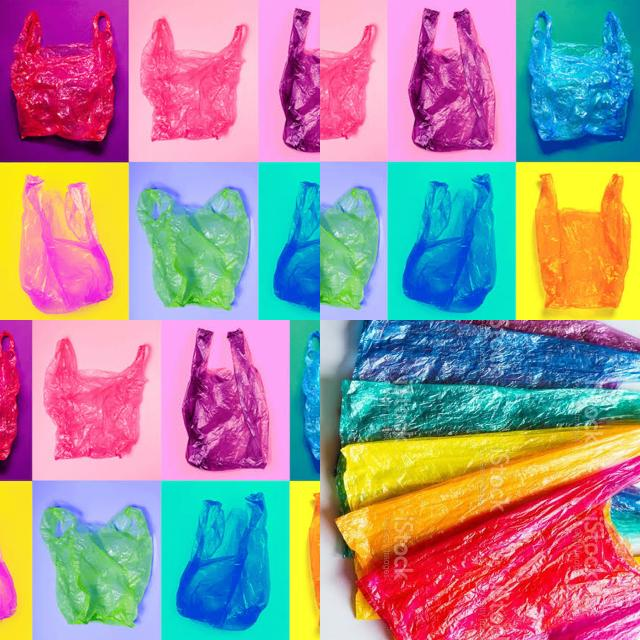Single-layer Plastic: (358, 456, 640, 640), (336, 426, 640, 578), (336, 426, 615, 511), (340, 380, 640, 446), (352, 321, 640, 389), (136, 188, 250, 309), (11, 11, 116, 141), (529, 11, 634, 141), (40, 506, 152, 627), (19, 175, 114, 314), (402, 174, 496, 312), (176, 492, 270, 630), (535, 174, 631, 309), (140, 19, 246, 141), (44, 338, 150, 459), (182, 329, 269, 471), (409, 9, 495, 151), (320, 188, 379, 308), (314, 25, 376, 139), (274, 181, 320, 311), (279, 9, 320, 152), (461, 320, 640, 352)
